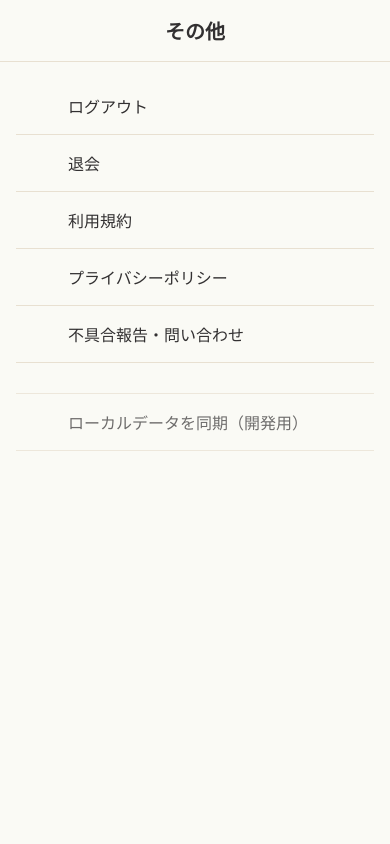
Test: OthersScreen › 退会処理中はローディング状態が表示されること
The image size is (390, 844).
# 退会ボタンをタップして退会確認ダイアログを表示
Click the text "退会" at (84, 164), box top-left (68, 154), bottom-right (100, 174)
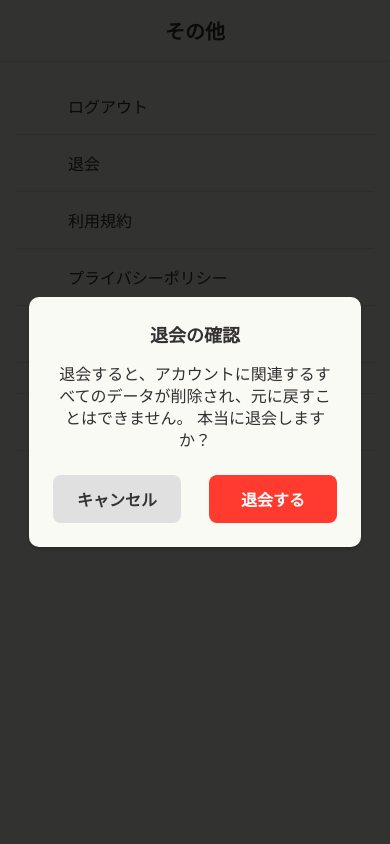
# 退会確認ダイアログの「退会する」ボタンをタップ
Click the text "退会する" at (273, 499), box top-left (241, 487), bottom-right (305, 511)
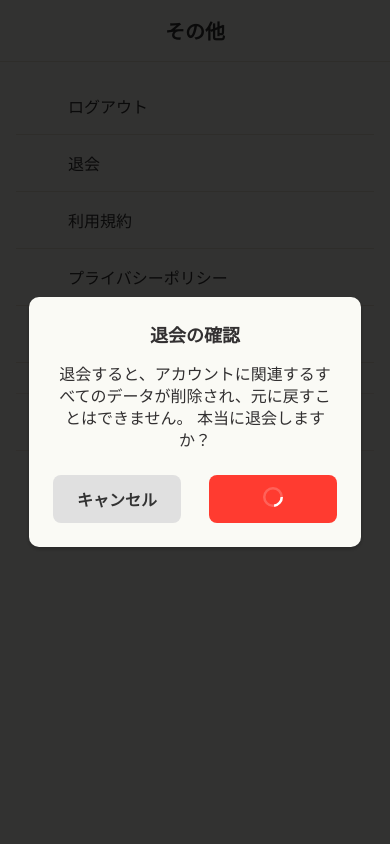
Now the progress indicator with test id "withdraw-loading" is shown, box top-left (263, 487), bottom-right (283, 507)
